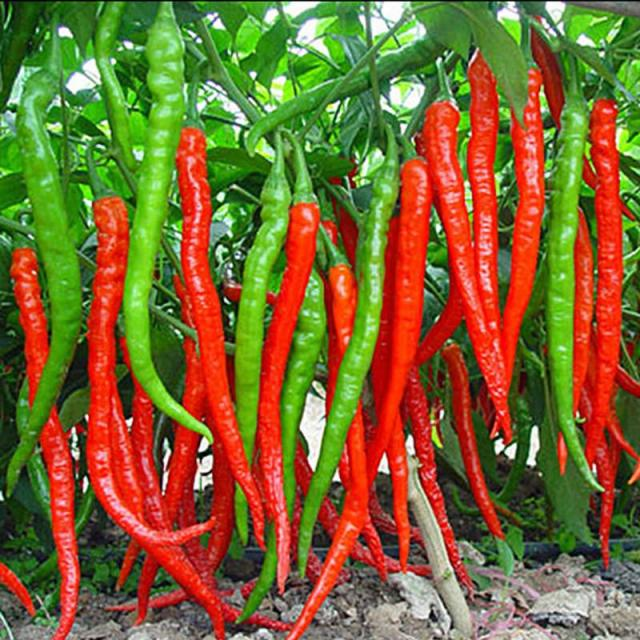red chili: (420, 101, 523, 434), (170, 133, 256, 487), (256, 200, 335, 531), (84, 203, 139, 532), (587, 101, 630, 455), (391, 163, 436, 448)
